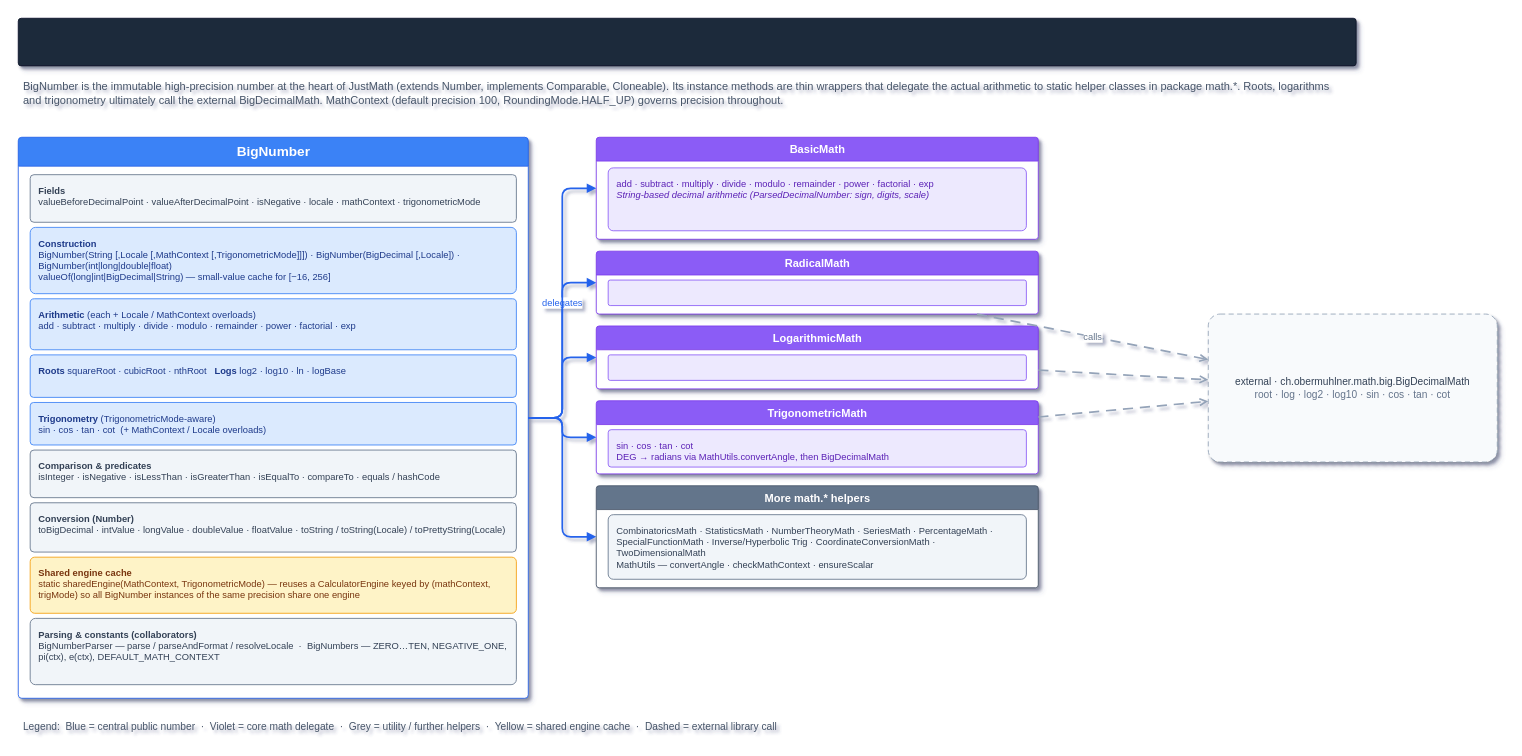
Image size: 1522x756. Some labels were removed from this diagram. The centre of each missing label's shape, as x and y in pixels:
BigNumber · Central Number & Math Delegation: point (687, 43)
log2 · log10 · ln · logBase (logBase(x) = ln(x)/ln(base)): point (816, 367)
squareRoot · cubicRoot · nthRoot: point (816, 292)
